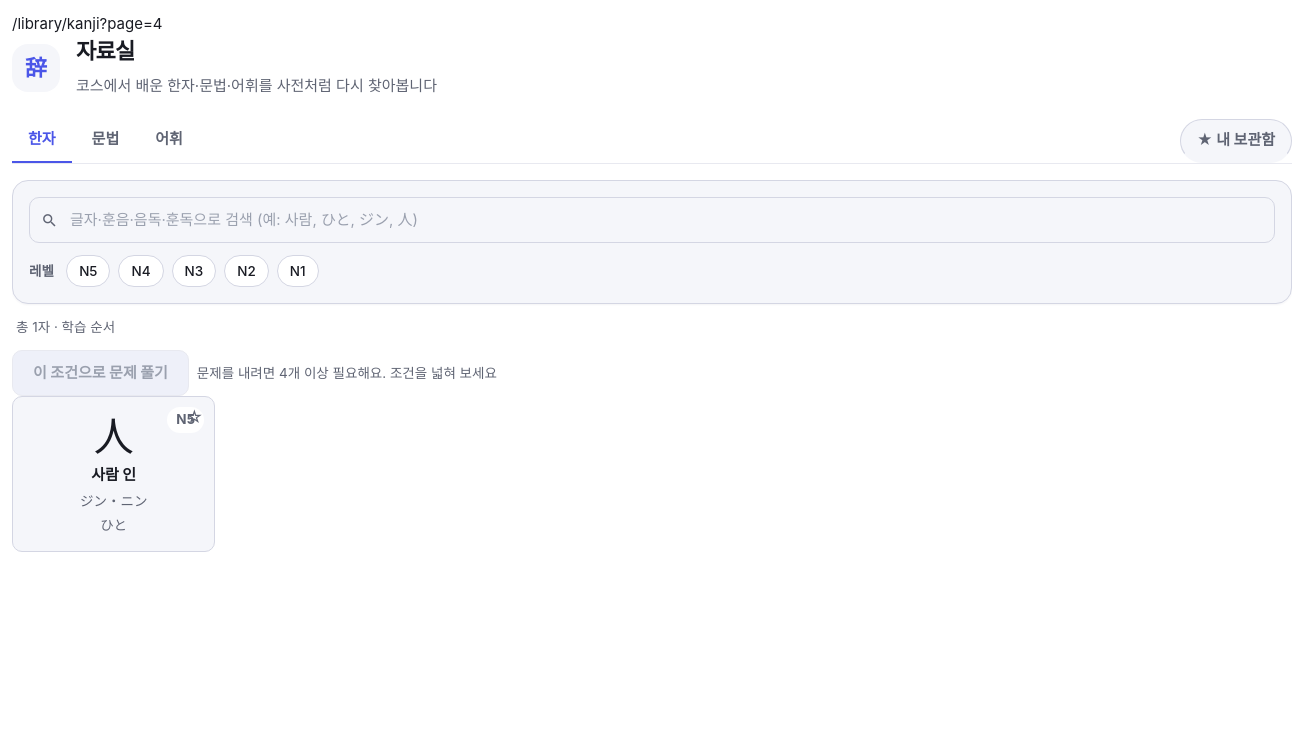
Scenario: LibraryKanjiPage — 주소 동기화 (인수 6·7) › 검색어를 입력하면 디바운스 후 주소에 반영되고 1페이지로 돌아간다
Expected: the text "人" is shown, [94, 414, 134, 462]
Type "사람" into the field named "자료실 검색" at (652, 220), box [29, 197, 1275, 243]
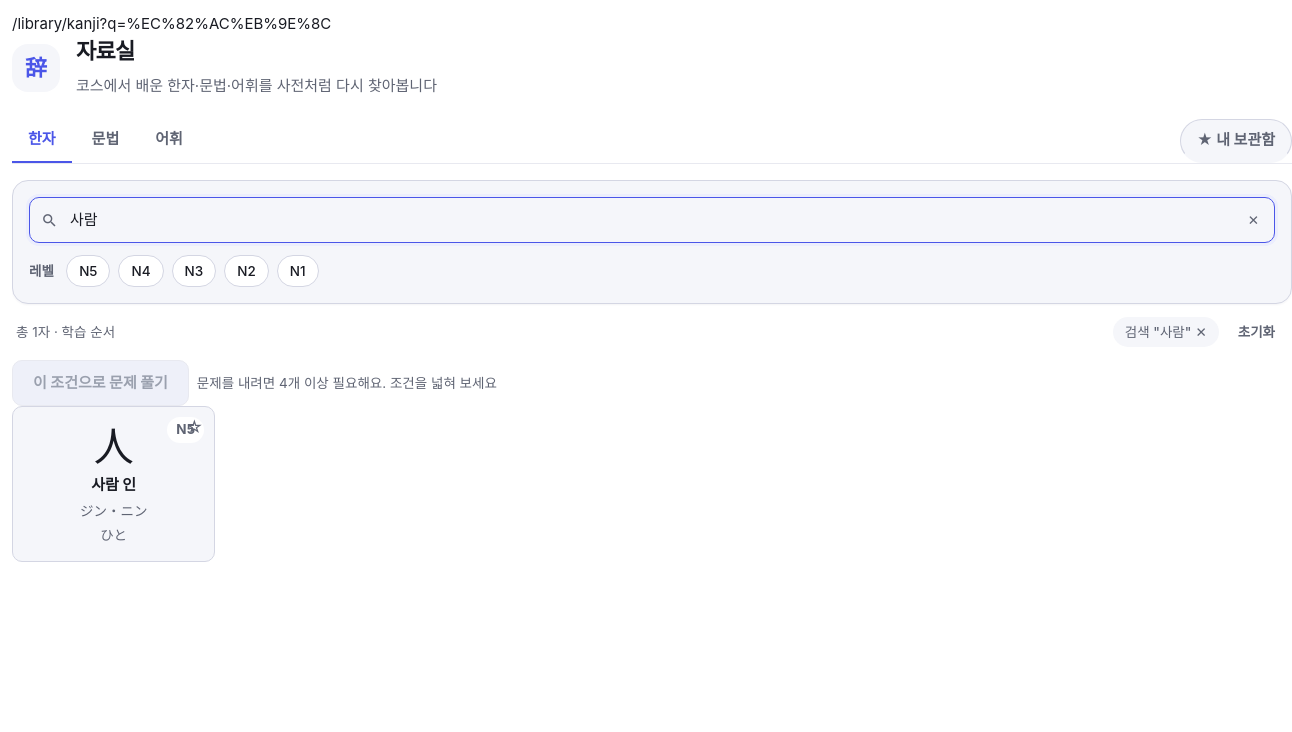
Now the text with test id "location" shows "?q=%EC%82%AC%EB%9E%8C", box [100, 14, 331, 33]
Now the text with test id "location" no longer shows "page=", box [12, 14, 331, 33]
